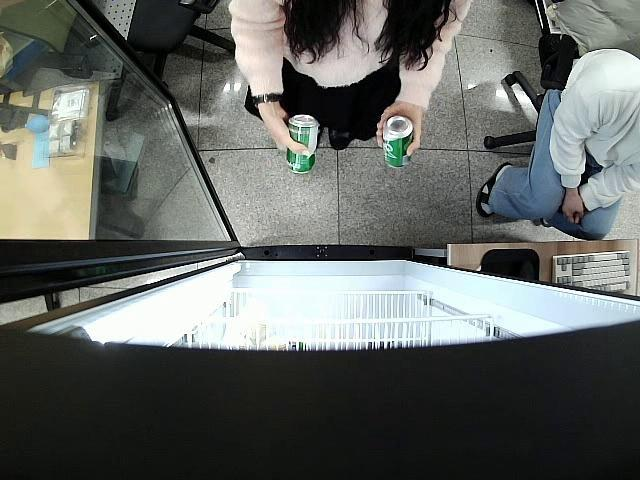12_chilsungCider: (286, 114, 321, 175), (382, 116, 416, 170)
